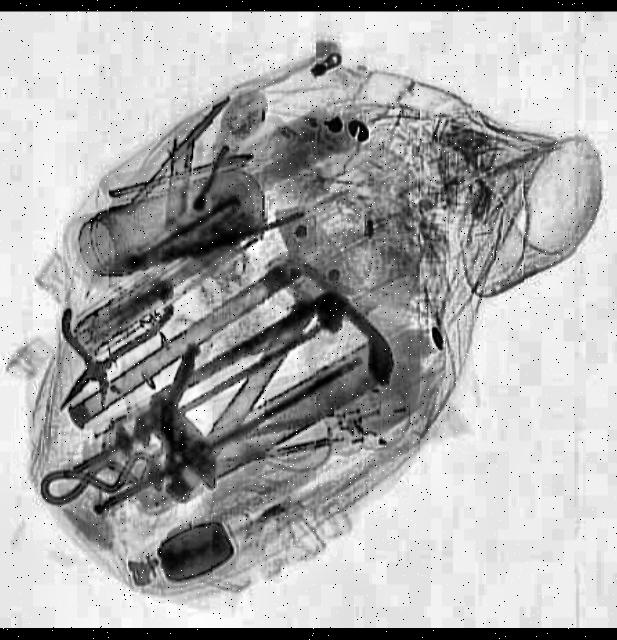Pliers: (42, 282, 176, 435)
